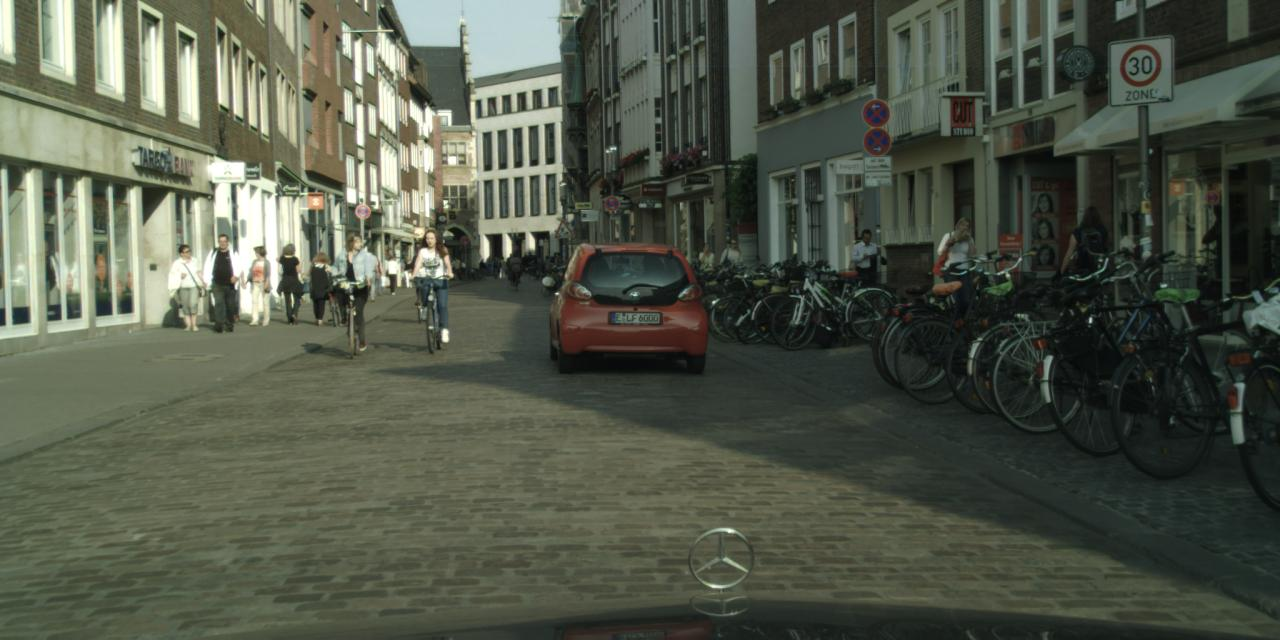ped: (1064, 206, 1119, 340), (941, 216, 987, 332), (332, 232, 374, 334), (203, 233, 243, 331), (412, 228, 452, 326), (850, 228, 886, 317), (170, 243, 204, 329), (274, 242, 307, 324), (244, 244, 276, 324), (213, 242, 245, 322), (305, 252, 335, 325), (721, 239, 745, 299), (694, 243, 717, 298), (358, 247, 381, 300), (409, 248, 431, 302), (368, 254, 384, 295), (384, 256, 399, 294), (509, 252, 522, 282), (402, 255, 414, 287), (532, 251, 542, 276), (552, 252, 562, 276), (497, 255, 506, 279), (452, 256, 460, 278), (542, 255, 550, 276), (486, 254, 494, 274), (492, 256, 499, 276), (479, 257, 486, 275), (460, 258, 466, 273)
